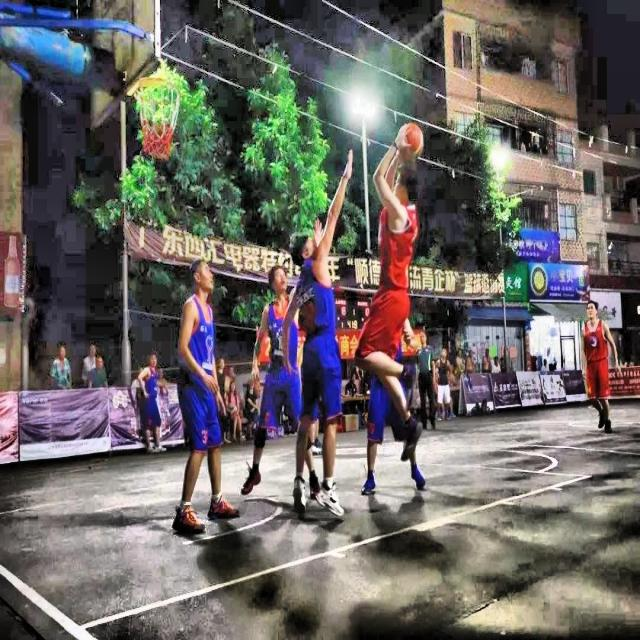rim: (137, 79, 181, 157)
